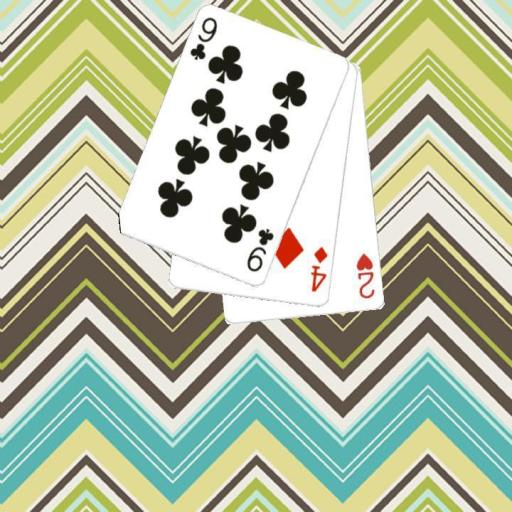card-corner: (243, 225, 276, 274), (186, 14, 219, 63), (353, 250, 377, 301), (308, 244, 330, 294)
